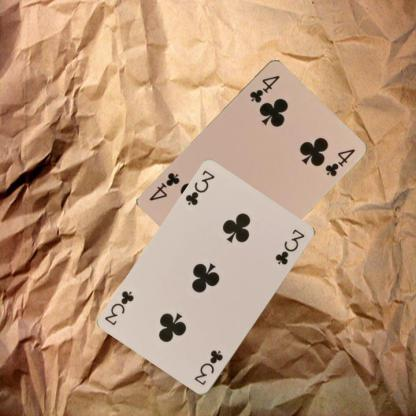3c: (191, 347, 224, 387), (183, 168, 216, 208)
4c: (247, 72, 281, 104)
